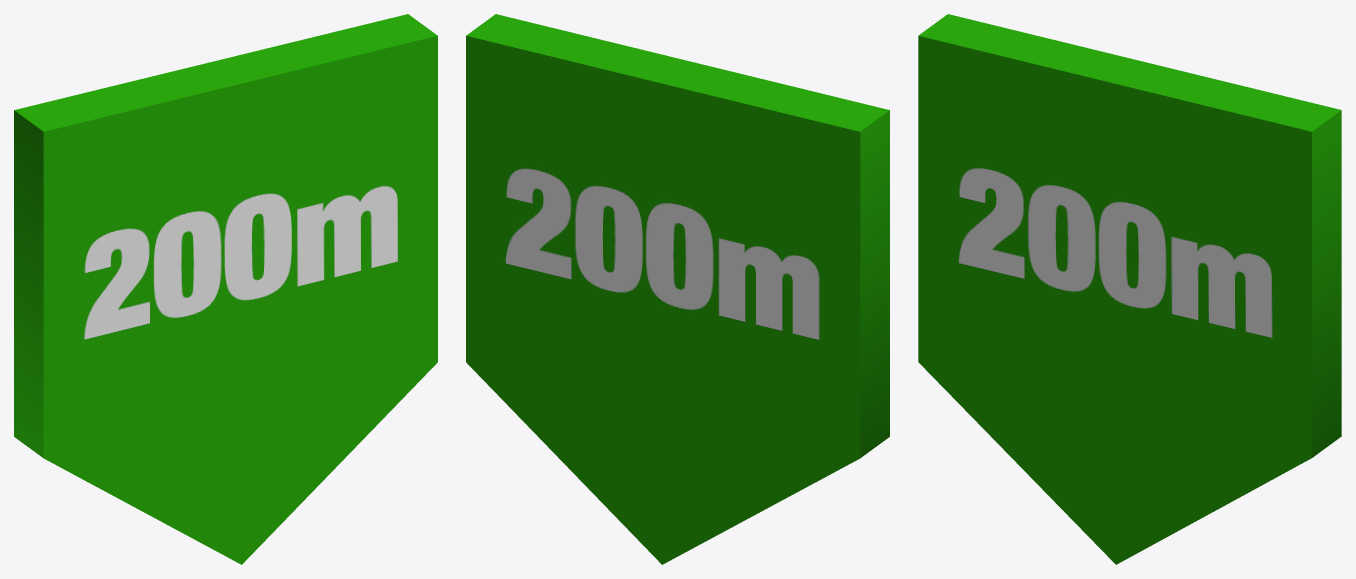
File: 200m marker.fbx
3 renders of one model, left to right at view 1: azimuth 30°, elevation 25°; view 2: azimuth 150°, elevation 25°; view 3: azimuth 330°, elevation 25°, orthographic.
Visible parts, largest first — view 1: pCube1; view 2: pCube1; view 3: pCube1.
Part boxes in pixels (x1=…): pCube1: x1=14, y1=14, x2=437, y2=564; pCube1: x1=466, y1=14, x2=889, y2=564; pCube1: x1=918, y1=14, x2=1341, y2=564.
Size of the model in its own units: 3.96 by 4.62 by 0.5166.
Materials: 1 (1 with a texture image).
